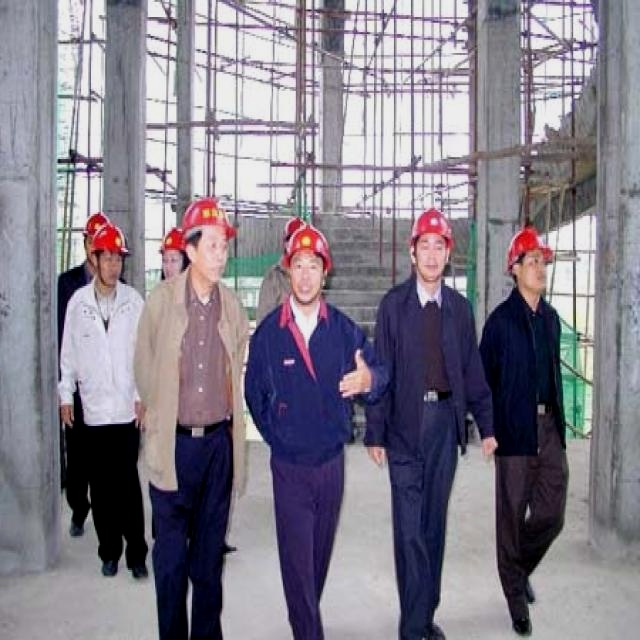Con_Casco: (505, 226, 554, 300)
Sin_Chaleco: (247, 297, 358, 459), (377, 280, 472, 443)
